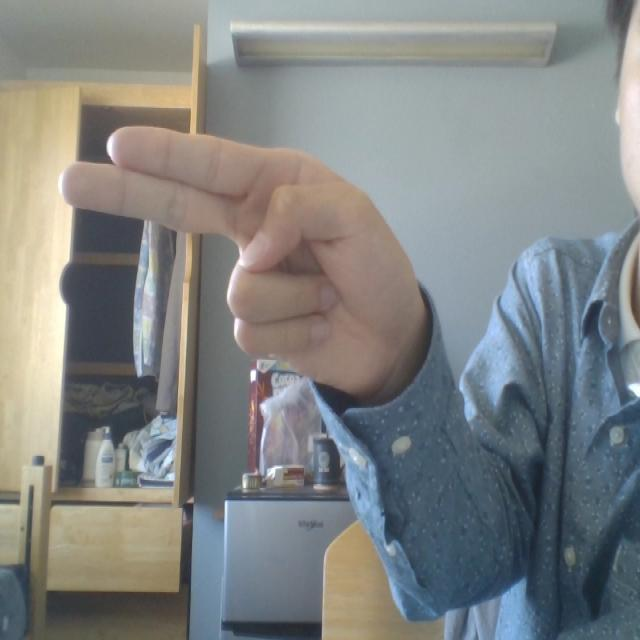H: (54, 63, 466, 397)
